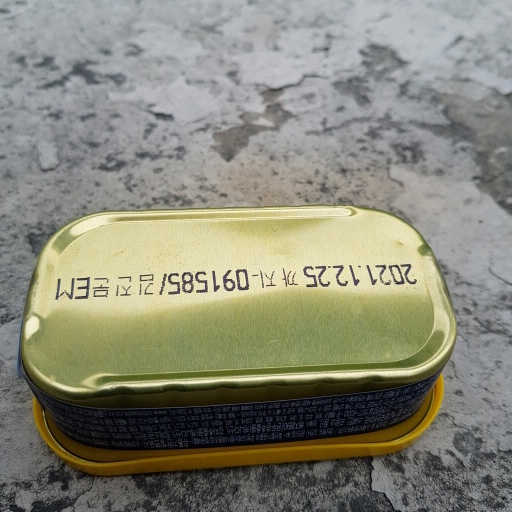Metal_2: (19, 208, 458, 470)
